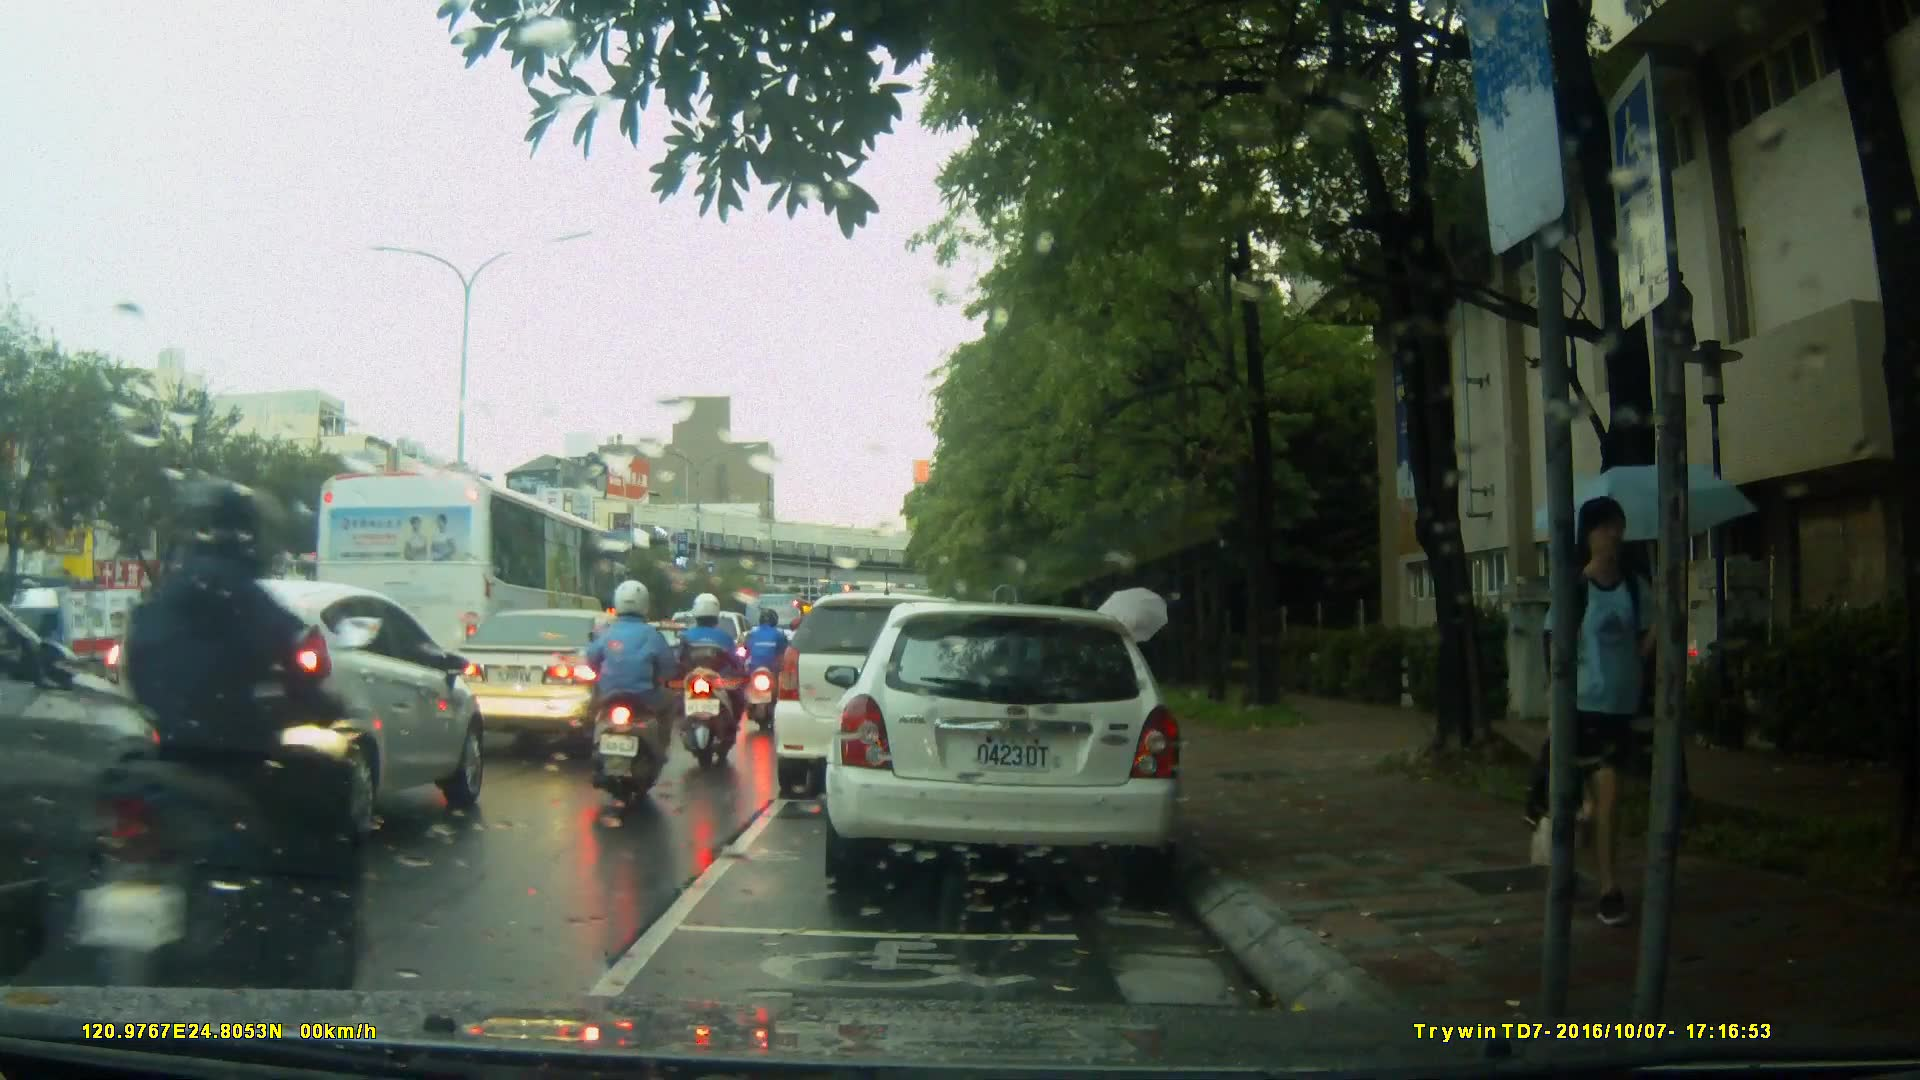pedestrian: (1519, 489, 1677, 940)
rider: (69, 472, 359, 1048), (587, 582, 694, 800), (676, 589, 750, 783), (739, 606, 792, 744)
vehicle: (835, 594, 1194, 898), (101, 576, 488, 846), (311, 469, 632, 729), (1, 547, 184, 971), (776, 590, 1026, 784), (437, 606, 673, 753), (1, 586, 155, 697), (613, 620, 719, 710)
